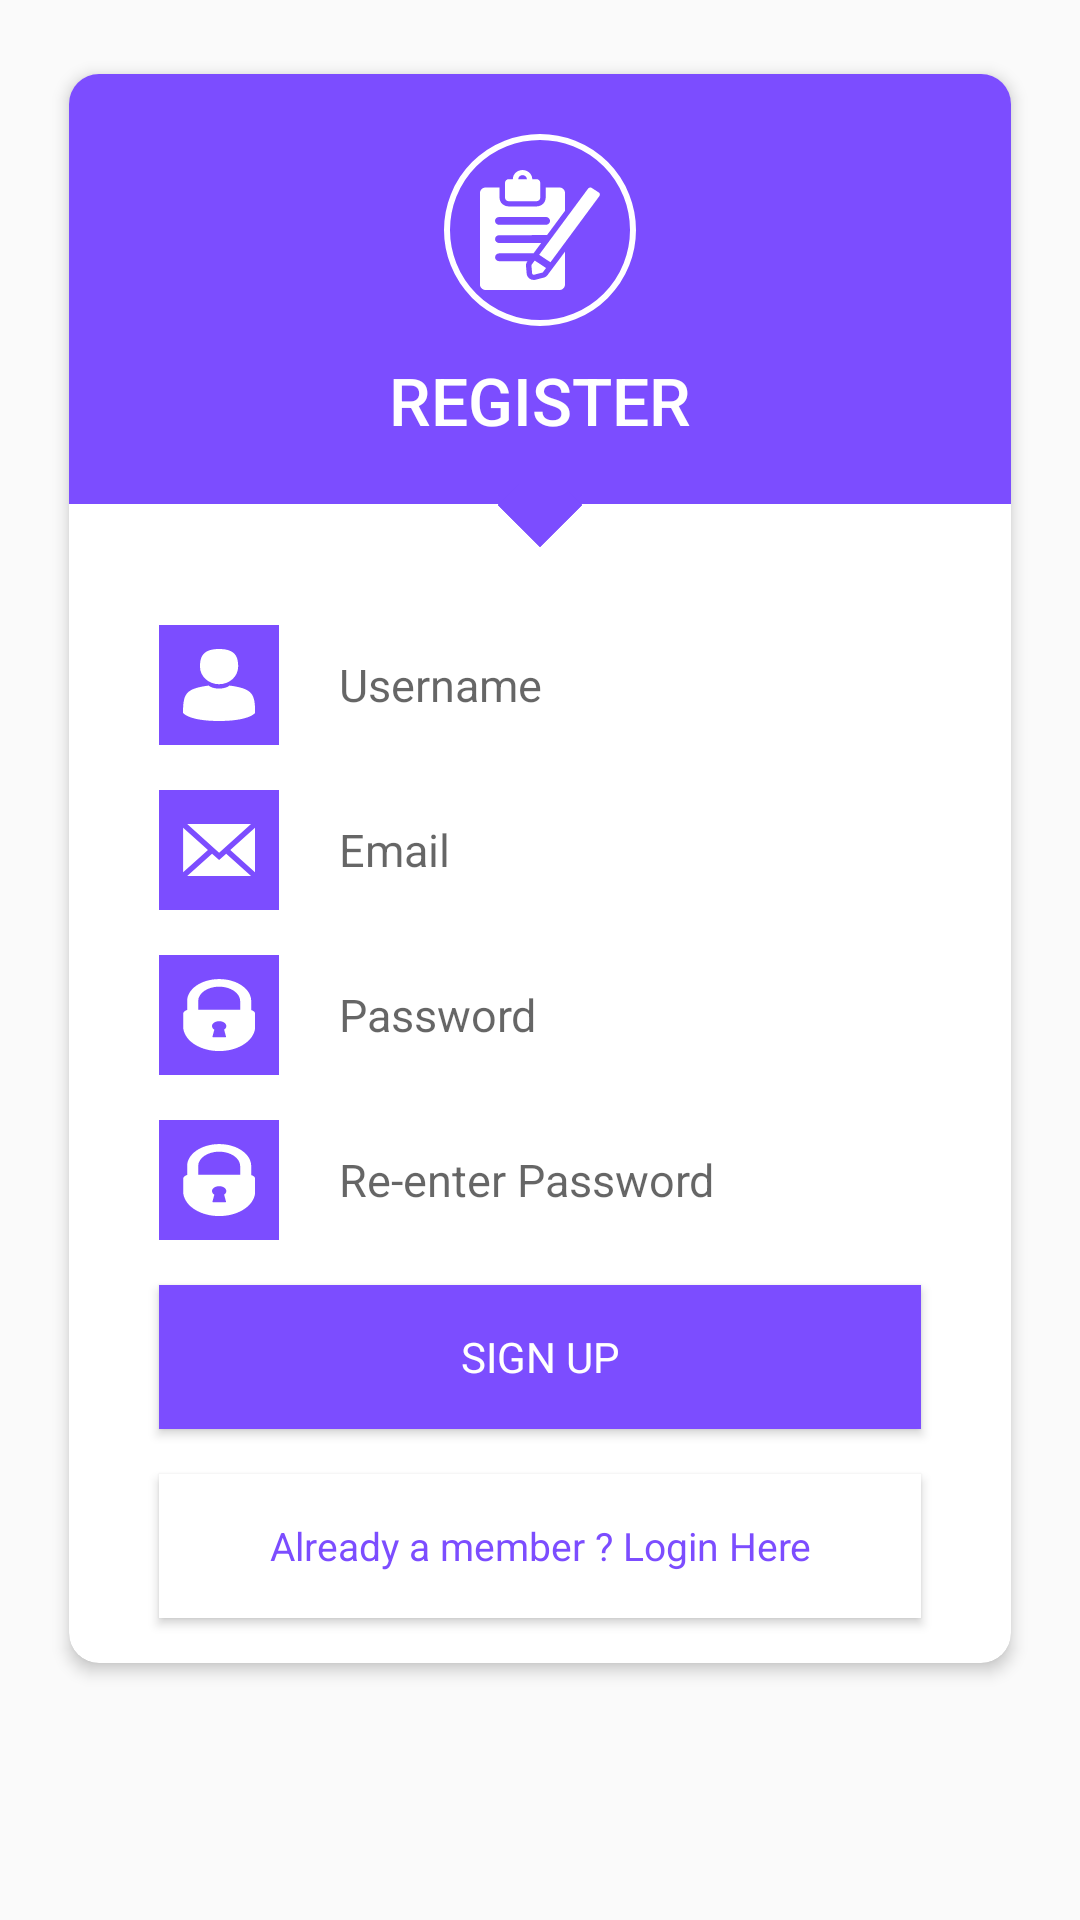

Screen size 1080px×1920px. Icon name, then its center in pixels as point (x, y):
lock: point (219, 1015), point (219, 1180)
man user: point (219, 685)
